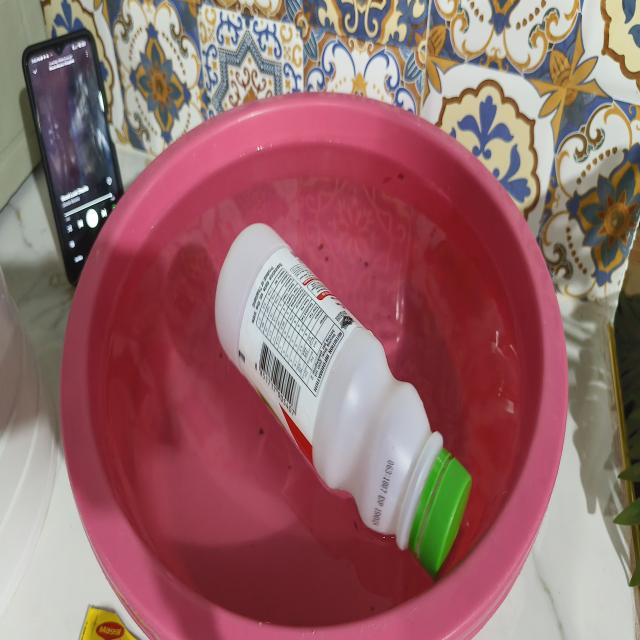Plastic Bottle: (215, 223, 443, 550)
